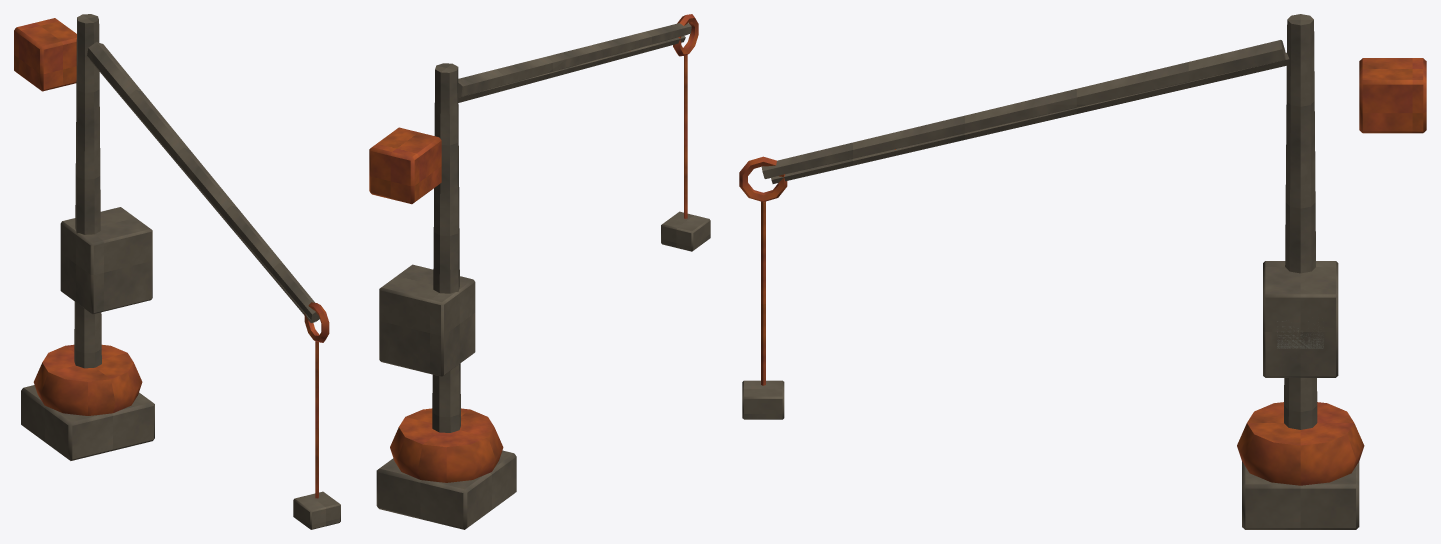
The model's file is prop_harbour_crane.glb.
3 renders of one model, left to right at view 1: azimuth 30°, elevation 25°; view 2: azimuth 150°, elevation 25°; view 3: azimuth 270°, elevation 25°, orthographic. The views are drawn at different scales.
Parts seen in each view (by area): view 1: Body, Rust; view 2: Body, Rust; view 3: Body, Rust.
Boxes of the visible parts, x1,y1,x2,y2 form: Body: [21, 14, 340, 529]; Rust: [14, 18, 329, 498]; Body: [376, 23, 710, 529]; Rust: [369, 14, 698, 482]; Body: [742, 14, 1359, 529]; Rust: [739, 58, 1426, 485].
Size of the model in its own units: 0.78 by 3.2 by 4.09.
3 materials, 2 textured.
